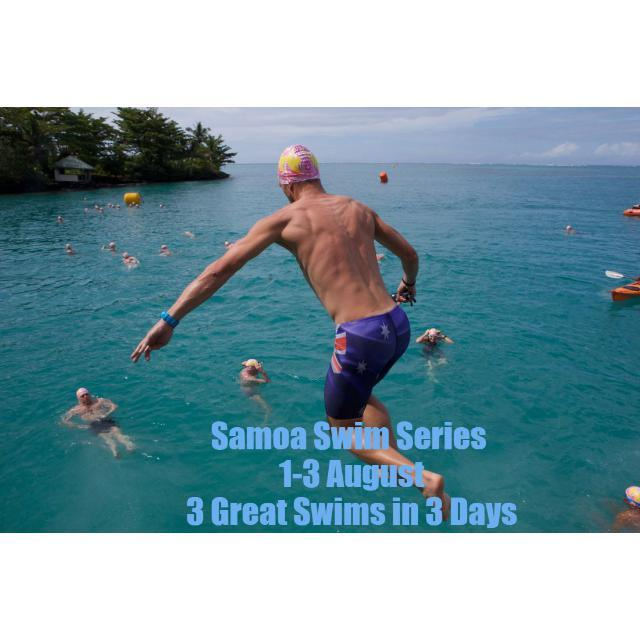human: (60, 386, 132, 458), (236, 353, 272, 423), (414, 325, 447, 378), (607, 482, 640, 532), (124, 250, 139, 267), (101, 241, 120, 254), (159, 243, 169, 258), (65, 242, 74, 254), (55, 215, 63, 227), (560, 225, 570, 231)
